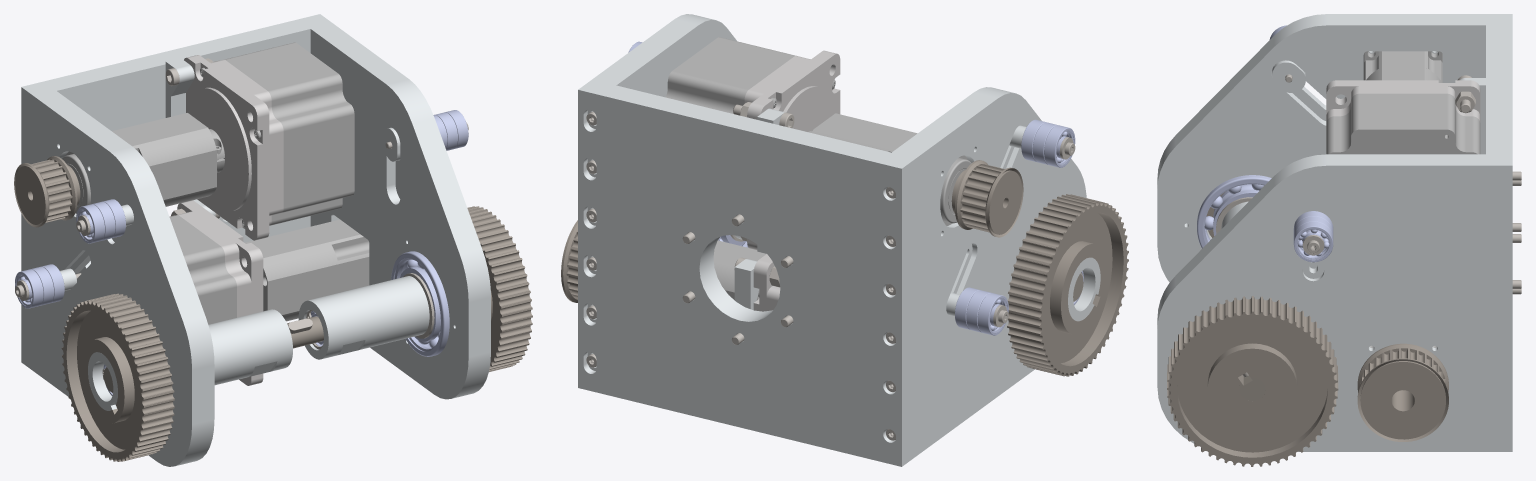
File: TRUNK.obj
3 views of the same model, side by side, from view 1: azimuth 30°, elevation 25°; view 2: azimuth 150°, elevation 25°; view 3: azimuth 270°, elevation 25° (orthographic). The views are drawn at different scales.
Visible parts, largest first — view 1: TRUNK; view 2: TRUNK; view 3: TRUNK.
Part boxes in pixels (x1,y1,x2,y2): TRUNK: (14,14,532,466); TRUNK: (561,14,1128,466); TRUNK: (1157,14,1521,466).
Bounding box in the file's own units: 0.2668 × 0.1809 × 0.2029.
